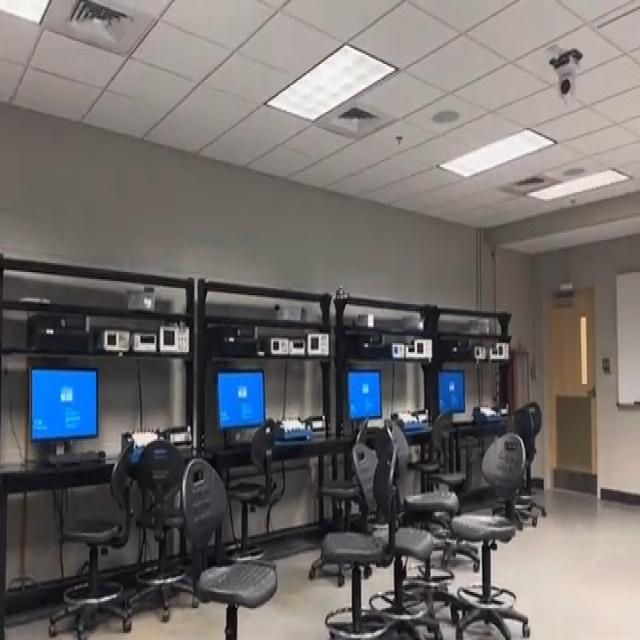drone: (320, 270, 359, 317)
